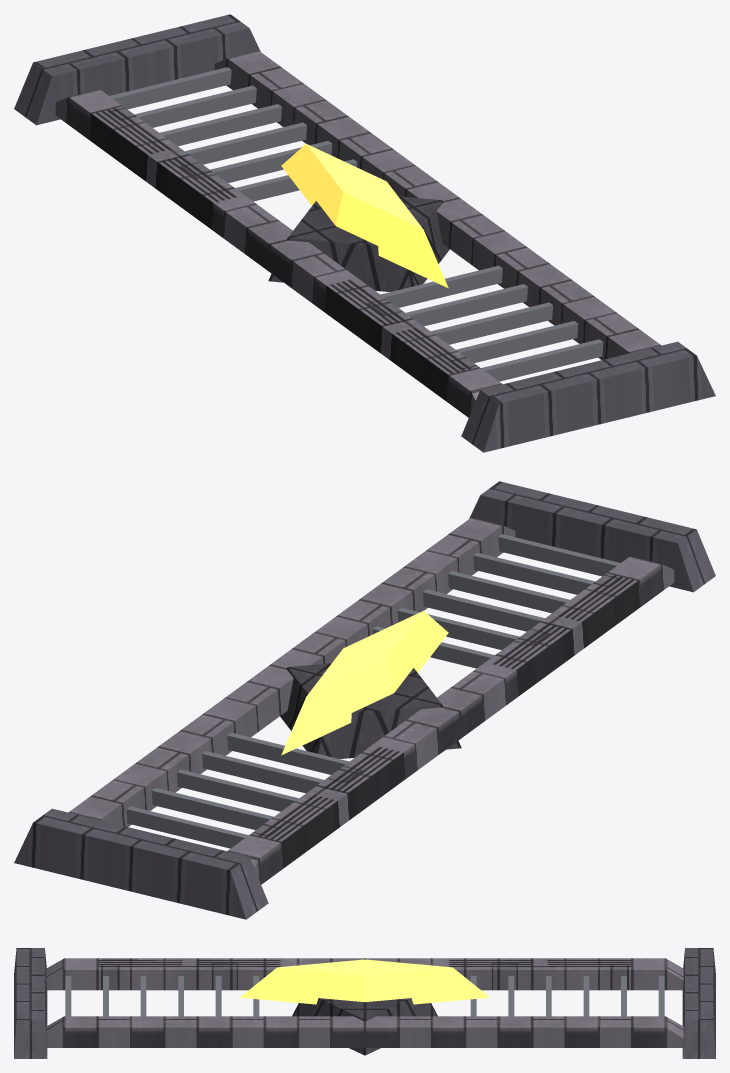
File: loom_ember.glb
3 views of the same model, one above another, from view 1: azimuth 30°, elevation 25°; view 2: azimuth 150°, elevation 25°; view 3: azimuth 270°, elevation 25° (orthographic). The views are drawn at different scales.
Bounding box in the file's own units: 24 × 7 × 84.
Materials: 6 (4 with a texture image).
